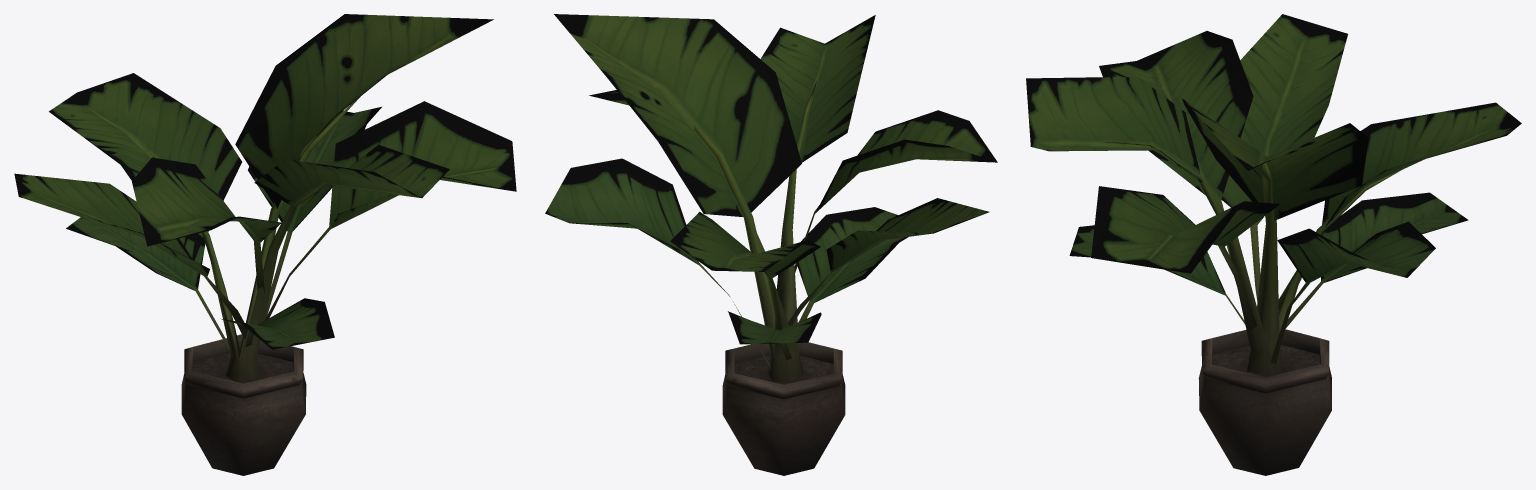
The model's file is Houseplant.FBX.
3 views of the same model, side by side, from view 1: azimuth 30°, elevation 25°; view 2: azimuth 150°, elevation 25°; view 3: azimuth 270°, elevation 25° (orthographic). The views are drawn at different scales.
Visible parts, largest first — view 1: Potted plant; view 2: Potted plant; view 3: Potted plant.
Boxes of the visible parts, left/top/right/bottom form: Potted plant: left=14, top=14, right=516, bottom=475; Potted plant: left=545, top=14, right=997, bottom=475; Potted plant: left=1026, top=14, right=1521, bottom=475.
Size of the model in its own units: 1.72 by 1.4 by 1.5.
Materials: 1 (1 with a texture image).
